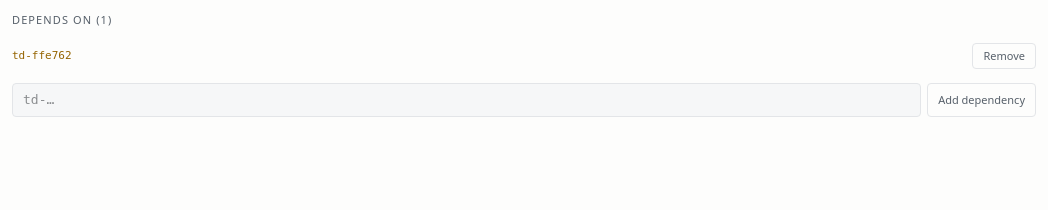
Scenario: DependencyPanel › clears a stale add error when a subsequent remove succeeds
Step 1. Type "td-6a0883" into the dropdown named "Depends on" → (467, 100), box [12,83,921,116]
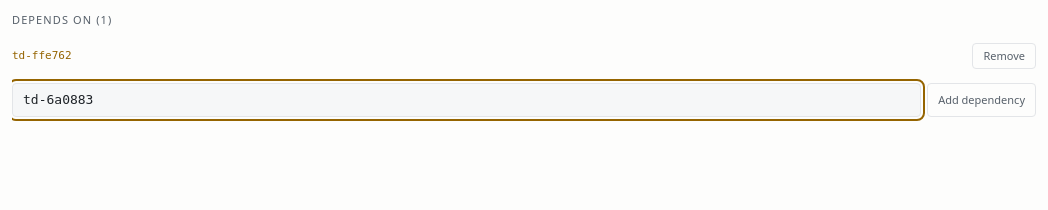
Step 2. Click the button "Add dependency" → (982, 100), box [927,83,1036,116]
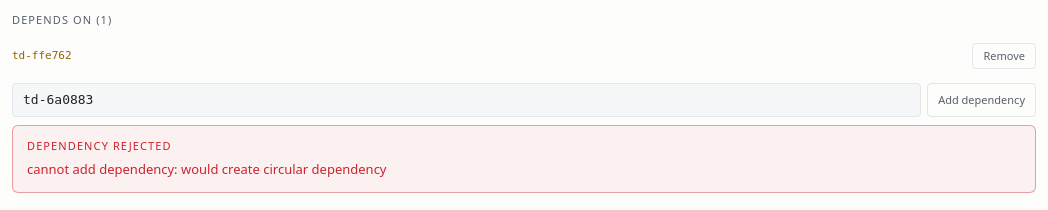
Expected: the text "cannot add dependency: would create circular dependency" is shown, [27,160,386,178]
Step 3. Click the button with aria-label "Remove td-ffe762" → (1004, 56), box [972,42,1036,69]
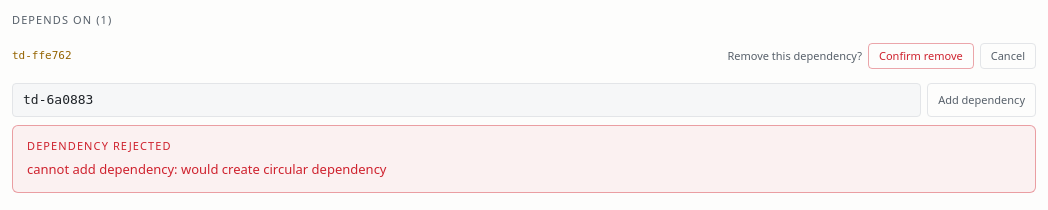
Step 4. Click the button with aria-label "Confirm remove td-ffe762" → (921, 56), box [868,42,974,69]
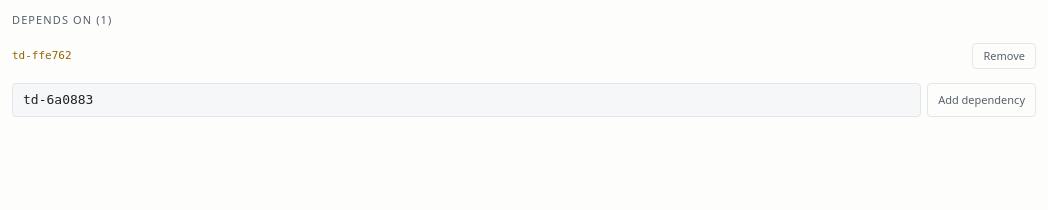
Expected: the text "cannot add dependency: would create circular dependency" is gone
